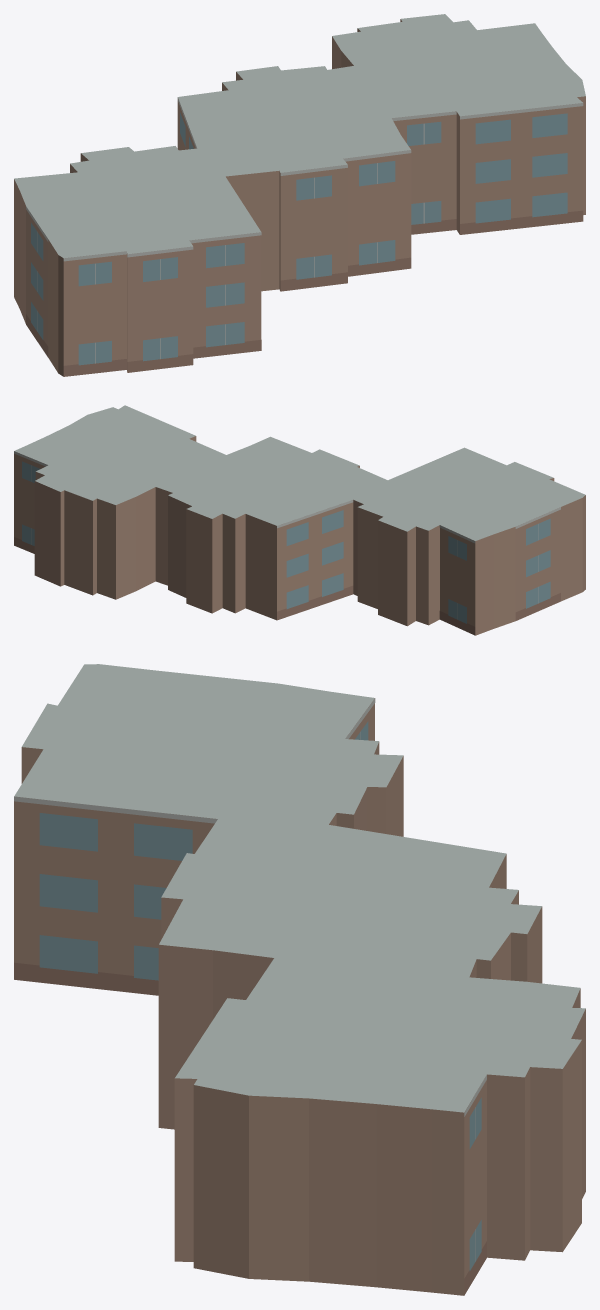
The model's file is survey-upis-32470612.glb.
3 views of the same model, one above another, from view 1: azimuth 30°, elevation 25°; view 2: azimuth 150°, elevation 25°; view 3: azimuth 270°, elevation 25° (orthographic). The views are drawn at different scales.
Visible parts, largest first — view 1: survey-upis-32470612.tmp; view 2: survey-upis-32470612.tmp; view 3: survey-upis-32470612.tmp.
Boxes of the visible parts, bbox=[...] form: survey-upis-32470612.tmp: bbox=[14, 14, 585, 376]; survey-upis-32470612.tmp: bbox=[14, 405, 585, 635]; survey-upis-32470612.tmp: bbox=[14, 664, 585, 1295].
Bounding box in the file's own units: 48.02 × 9.15 × 25.88.
